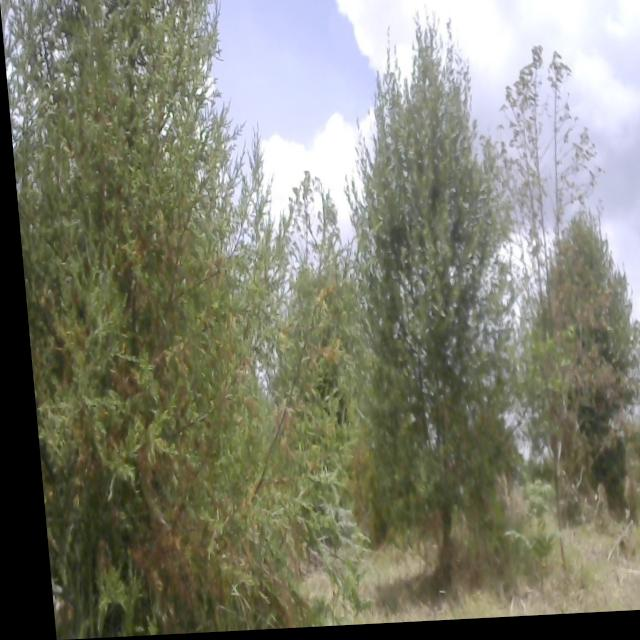Salix alba: (332, 13, 531, 590), (488, 48, 607, 356), (531, 219, 640, 436)
cedrus: (0, 0, 325, 632)
